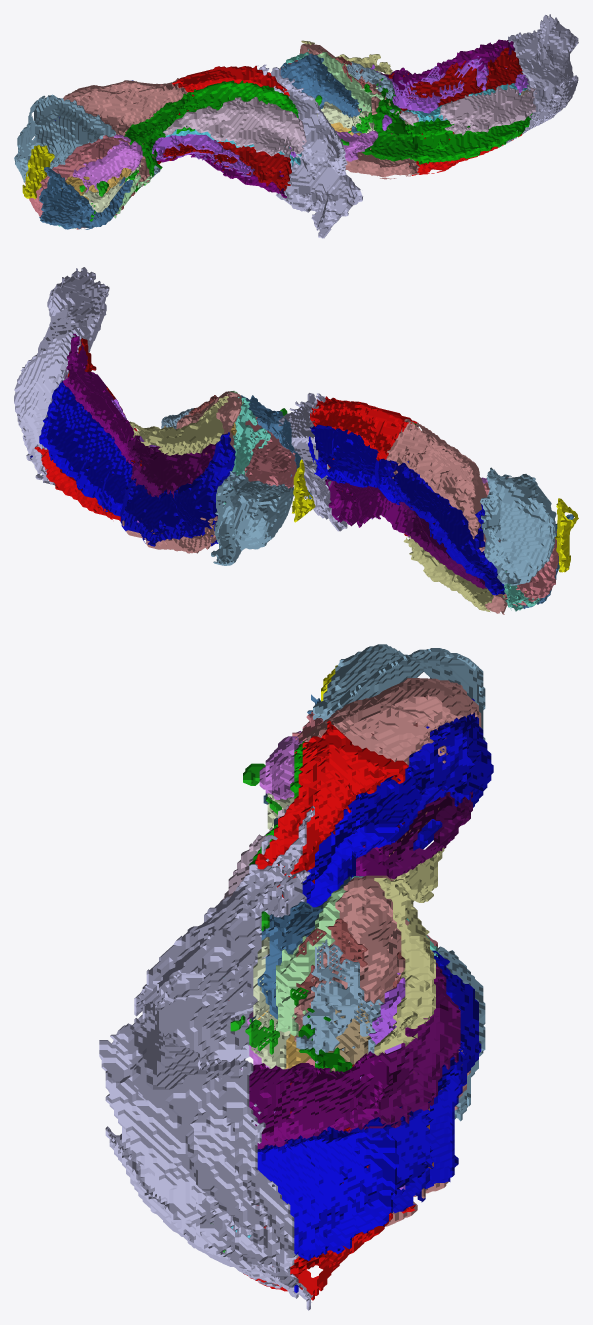
Rendered from hippoAmygLabels.glb.
3 views of the same model, one above another, from view 1: azimuth 30°, elevation 25°; view 2: azimuth 150°, elevation 25°; view 3: azimuth 270°, elevation 25° (orthographic). The views are drawn at different scales.
Visible parts, largest first — view 1: lh - HP_tail, lh - fimbria, rh - HP_tail, lh - Lateral-nucleus, lh - CA1-head, rh - fimbria, rh - CA3-body, lh - Corticoamygdaloid-transitio, rh - molecular_layer_HP-body, rh - Corticoamygdaloid-transitio, lh - CA3-body, rh - hippocampal_fissure (+22 smaller); view 2: rh - HP_tail, lh - Lateral-nucleus, rh - subiculum-body, rh - subiculum-head, lh - CA1-head, rh - Lateral-nucleus, lh - subiculum-head, lh - subiculum-body, lh - CA1-body, rh - presubiculum-body, rh - presubiculum-head, lh - HP_tail (+13 smaller); view 3: rh - HP_tail, lh - HP_tail, rh - subiculum-body, rh - presubiculum-body, lh - CA1-body, rh - subiculum-head, lh - CA1-head, lh - subiculum-body, rh - CA1-head, rh - presubiculum-head, lh - Lateral-nucleus, lh - subiculum-head (+16 smaller).
Boxes of the visible parts, x1,y1,x2,y2 form: lh - HP_tail: [257, 64, 362, 238]; lh - fimbria: [163, 96, 309, 157]; rh - HP_tail: [499, 14, 578, 147]; lh - Lateral-nucleus: [14, 94, 116, 182]; lh - CA1-head: [63, 78, 187, 229]; rh - fimbria: [395, 84, 536, 135]; rh - CA3-body: [404, 113, 532, 164]; lh - Corticoamygdaloid-transitio: [39, 167, 133, 229]; rh - molecular_layer_HP-body: [388, 47, 522, 140]; rh - Corticoamygdaloid-transitio: [280, 53, 361, 133]; lh - CA3-body: [175, 80, 298, 133]; rh - hippocampal_fissure: [370, 56, 528, 130]; rh - HP_tail: [14, 267, 109, 485]; lh - Lateral-nucleus: [480, 467, 556, 585]; rh - subiculum-body: [30, 380, 133, 516]; rh - subiculum-head: [120, 432, 235, 546]; lh - CA1-head: [386, 419, 507, 614]; rh - Lateral-nucleus: [211, 471, 293, 565]; lh - subiculum-head: [383, 460, 505, 595]; lh - subiculum-body: [308, 424, 400, 505]; lh - CA1-body: [310, 396, 416, 464]; rh - presubiculum-body: [62, 333, 134, 465]; rh - presubiculum-head: [128, 434, 216, 497]; lh - HP_tail: [278, 393, 347, 531]; rh - HP_tail: [99, 1001, 312, 1310]; lh - HP_tail: [134, 806, 314, 1061]; rh - subiculum-body: [257, 1117, 398, 1292]; rh - presubiculum-body: [241, 1052, 388, 1149]; lh - CA1-body: [255, 720, 408, 878]; rh - subiculum-head: [364, 950, 481, 1213]; lh - CA1-head: [304, 678, 481, 765]; lh - subiculum-body: [302, 766, 419, 907]; rh - CA1-head: [292, 875, 470, 1226]; rh - presubiculum-head: [350, 962, 460, 1129]; lh - Lateral-nucleus: [313, 644, 485, 740]; lh - subiculum-head: [401, 698, 493, 850].
Size of the model in its own units: 95.33 by 30.67 by 32.
